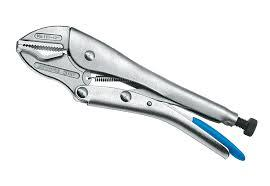pliers: (14, 23, 258, 161)
